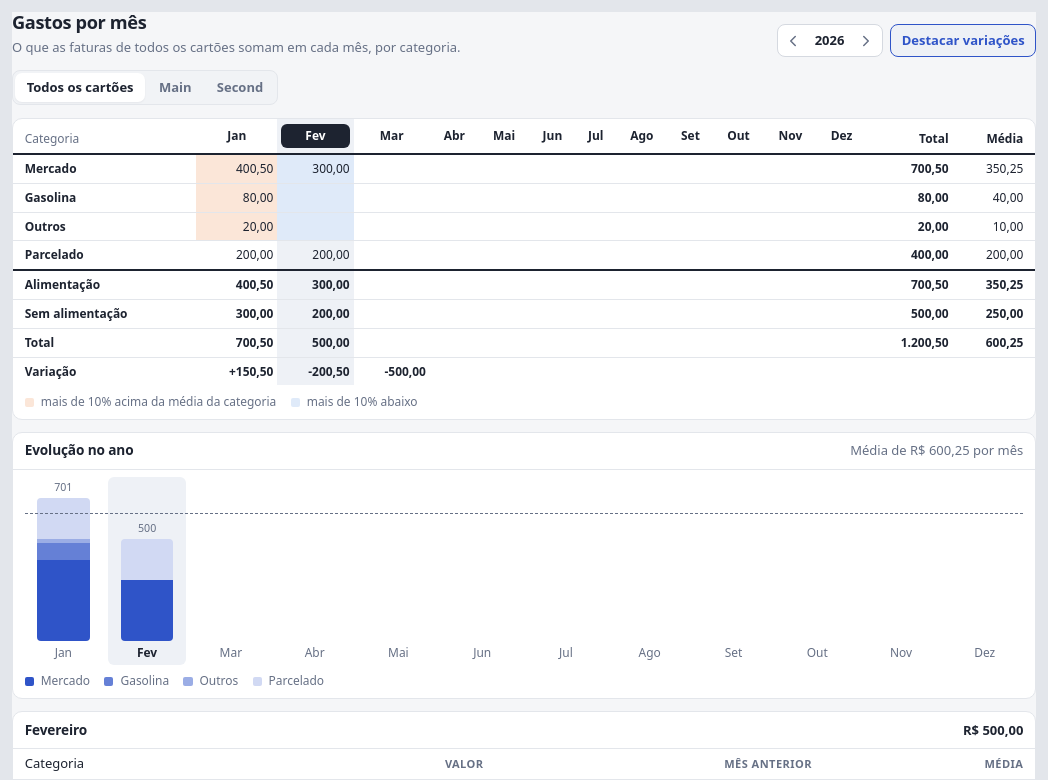
Test: SpendingPage › stops highlighting when asked, and remembers it
Click the button "Destacar variações": [963, 41] box 890,24 -> 1036,57
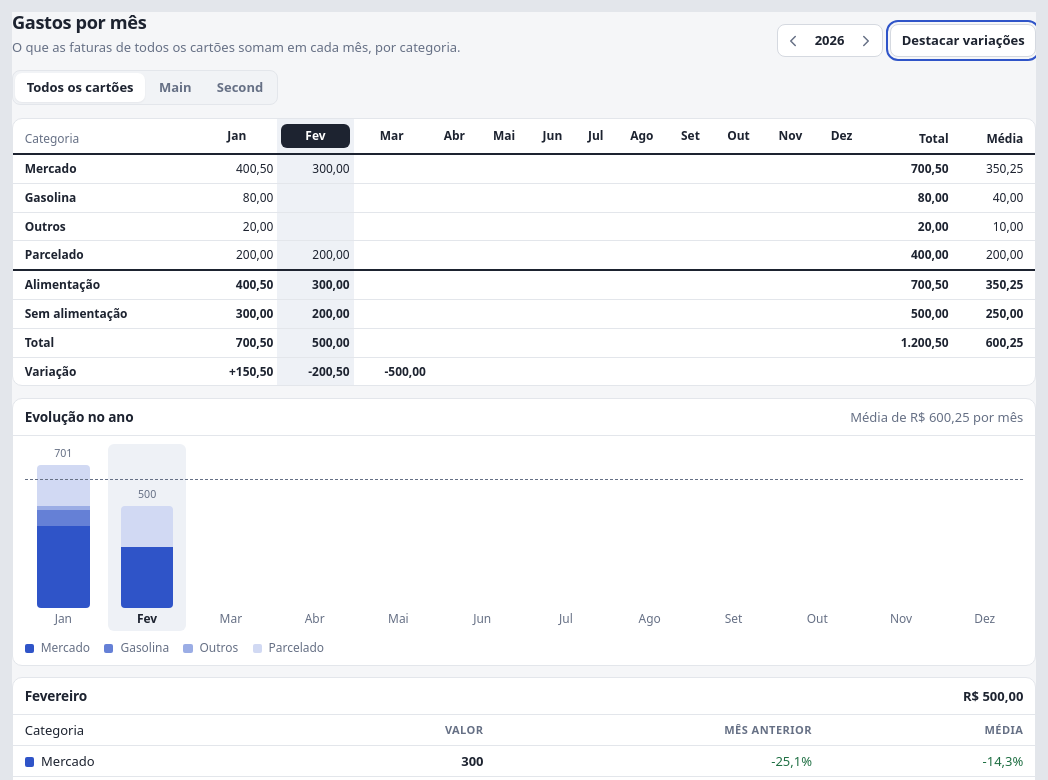
Now the text "mais de 10% acima" is gone
